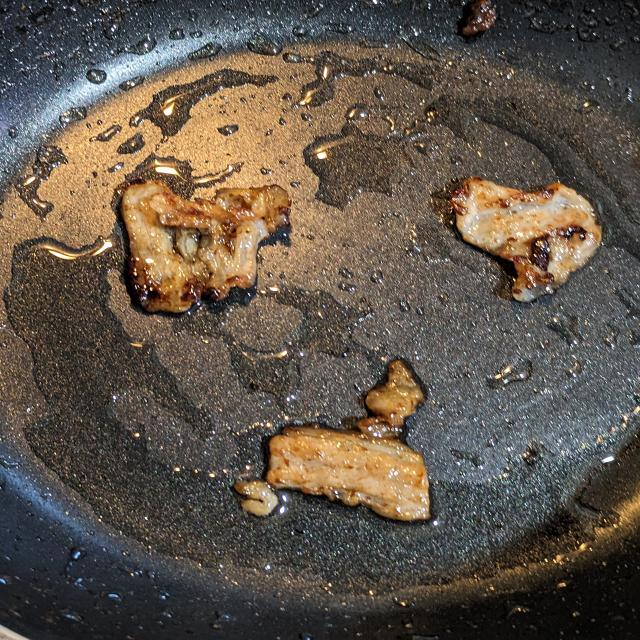OK cooked pork,: (224, 348, 445, 533), (100, 172, 296, 318), (433, 166, 607, 310)
